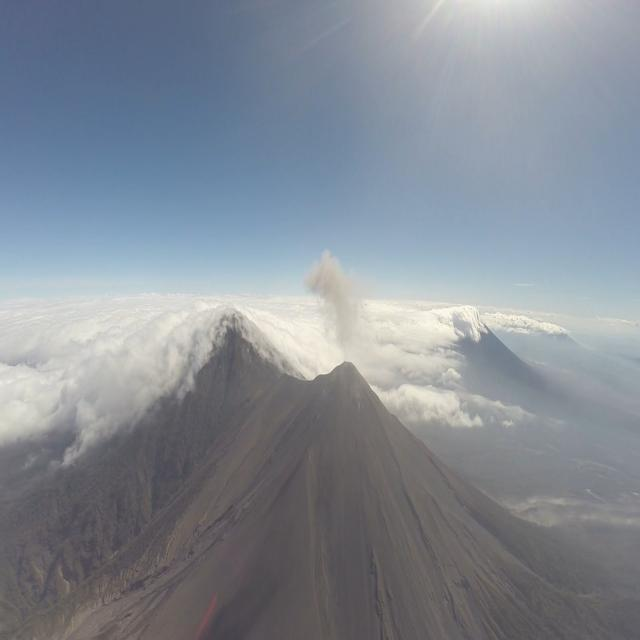Plume: (308, 245, 359, 353)
Summit: (315, 358, 374, 394)
